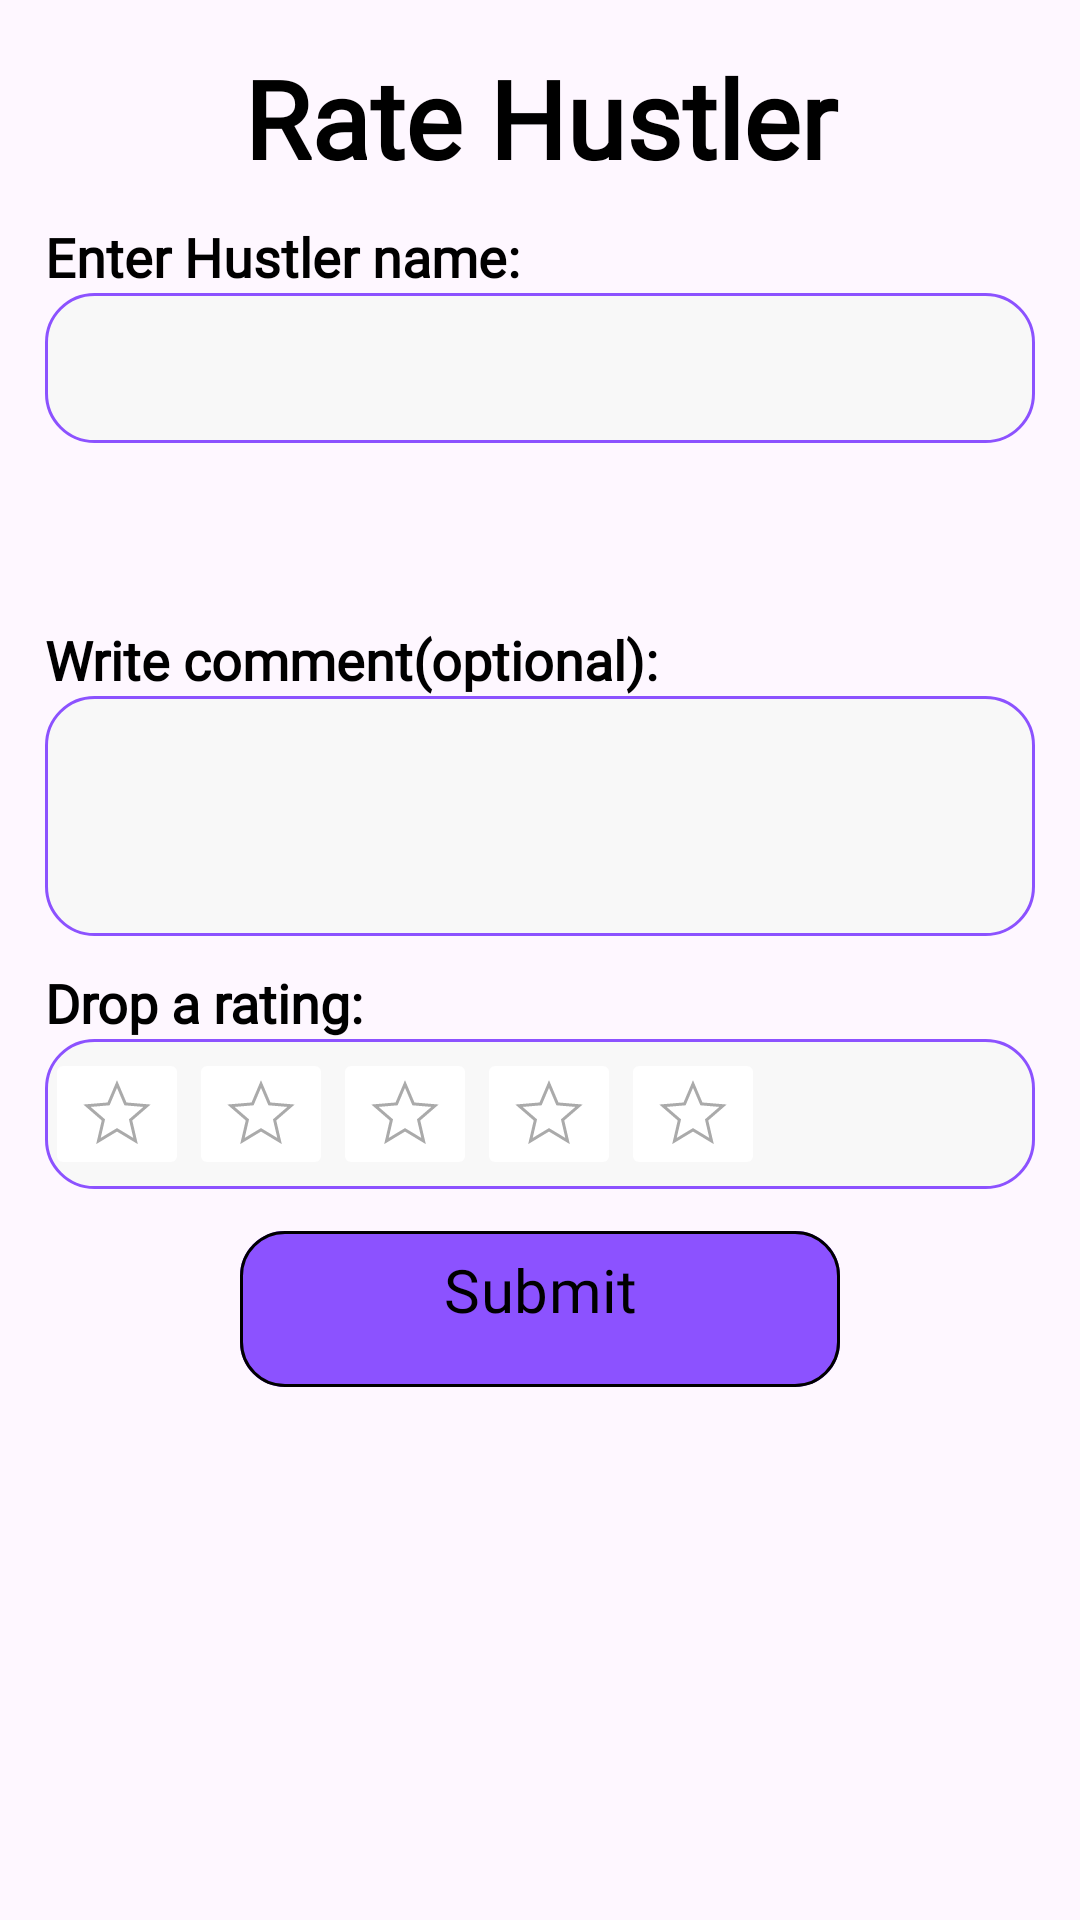

Where to tap for icons on this 1080x1920 app screen, as point (x, y):
ratings: point (117, 1112), point (261, 1112), point (405, 1112), point (549, 1112), point (693, 1112)
